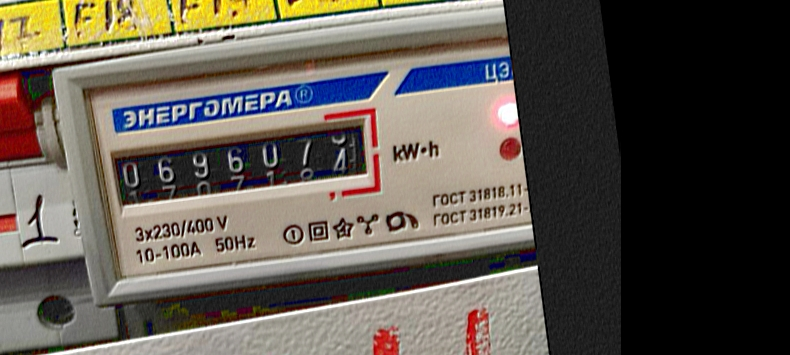0: (118, 157, 143, 190), (259, 138, 281, 169)
4: (327, 144, 349, 176)
6: (223, 143, 247, 176), (154, 153, 176, 184)
7: (293, 133, 315, 166)
9: (188, 148, 212, 180)
screen: (97, 100, 389, 228)
